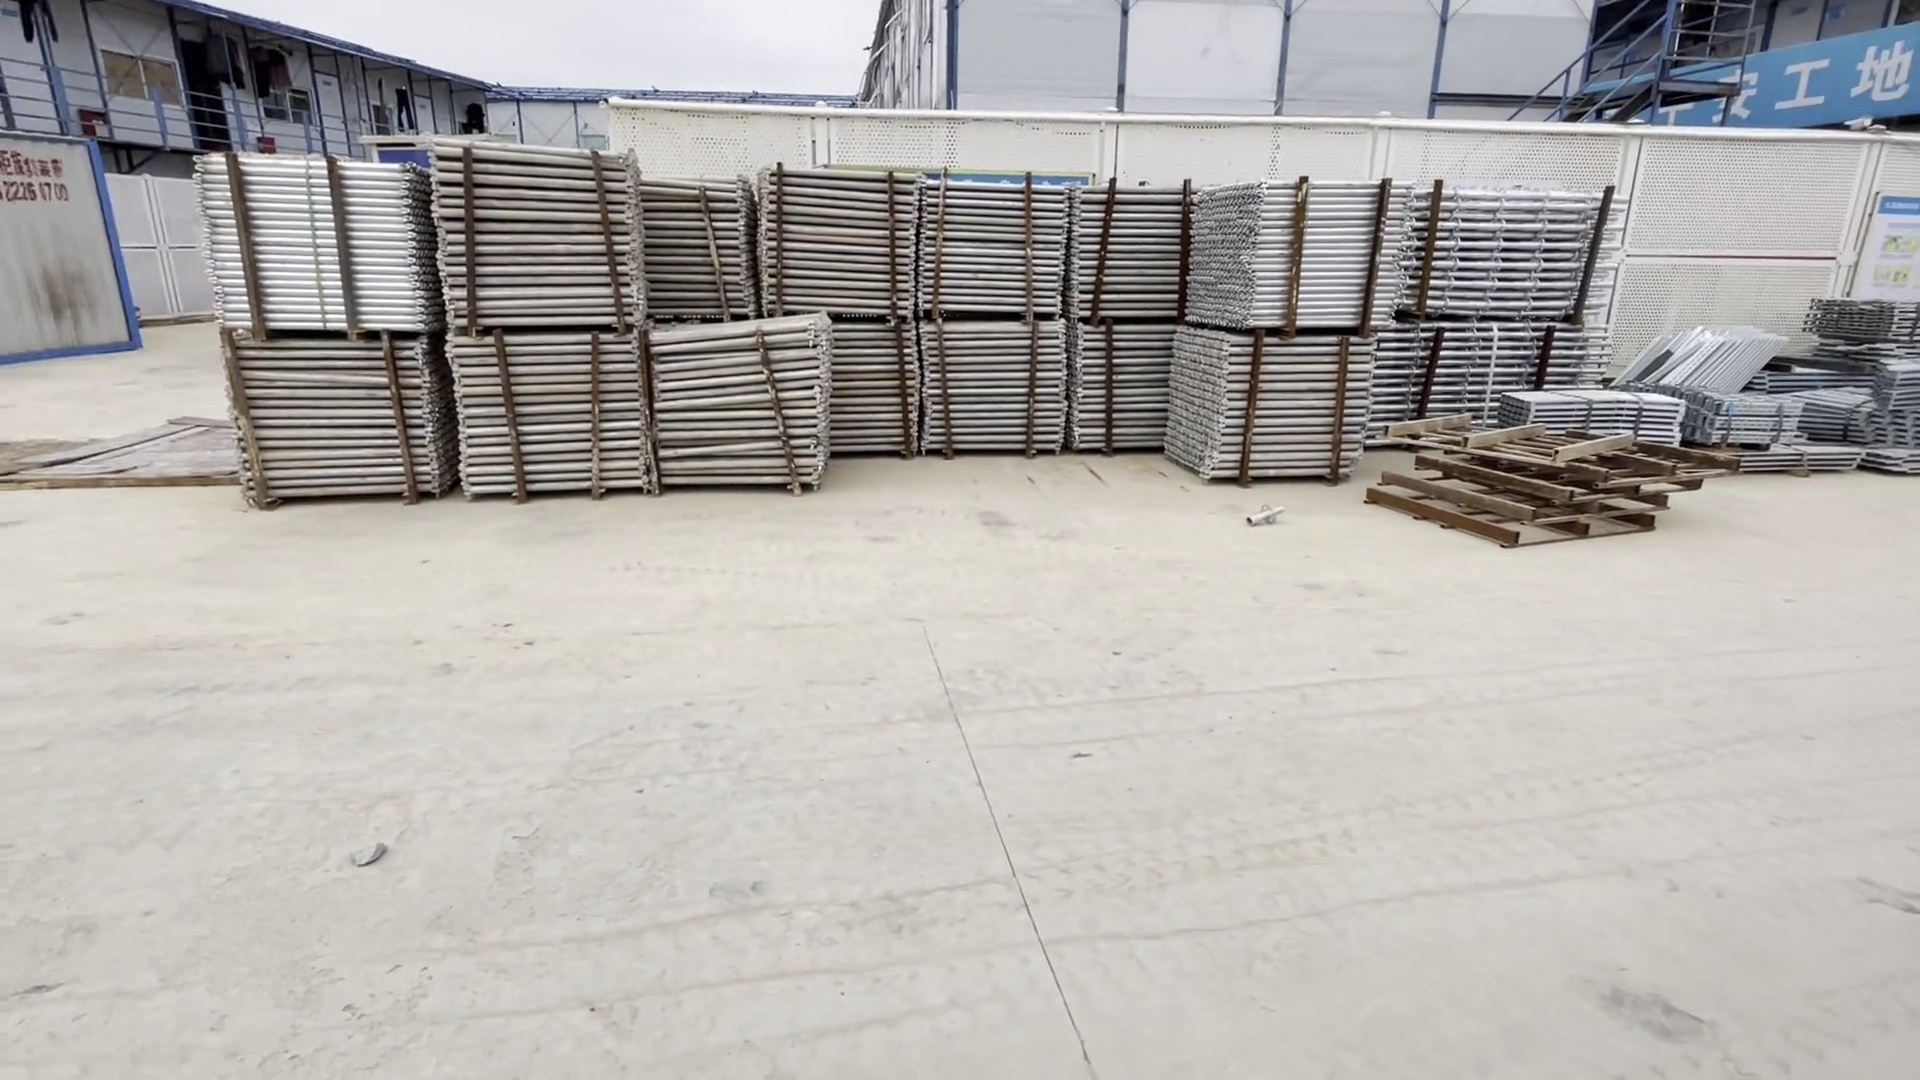scaffold: (179, 131, 1617, 553), (1644, 287, 1920, 518)
